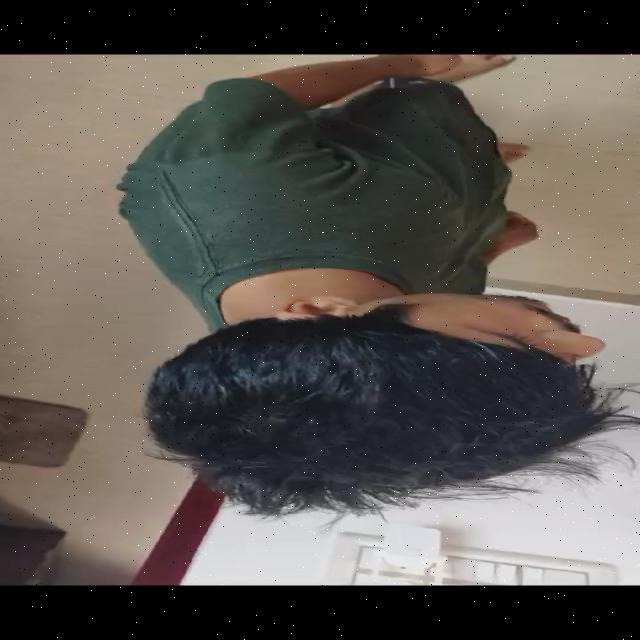humans: (96, 54, 633, 519)
